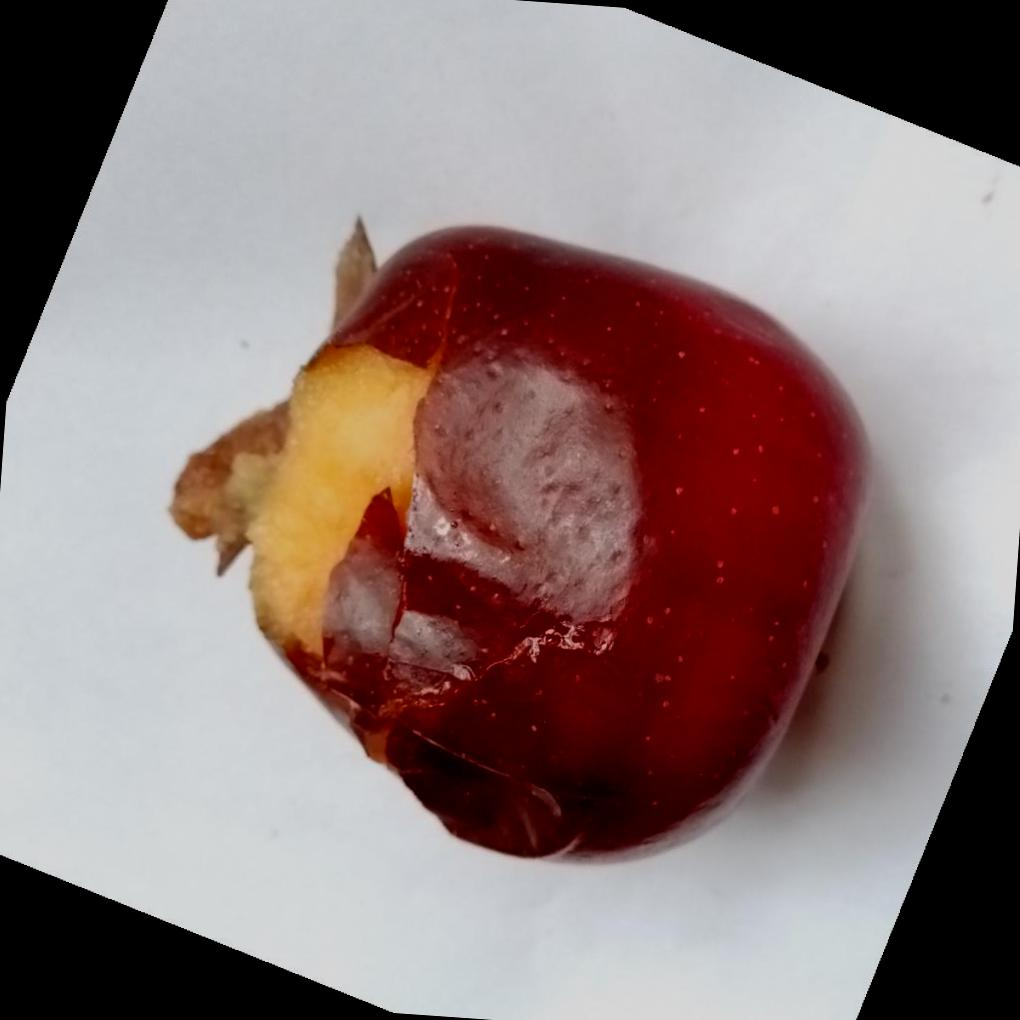FreshOrange: (169, 222, 877, 868)
